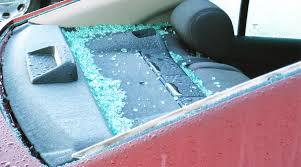Rear-windscreen-Damage: (3, 0, 260, 147)
